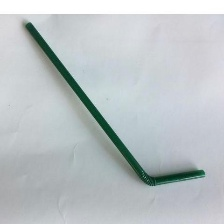drinking_straw: (19, 16, 211, 192)
